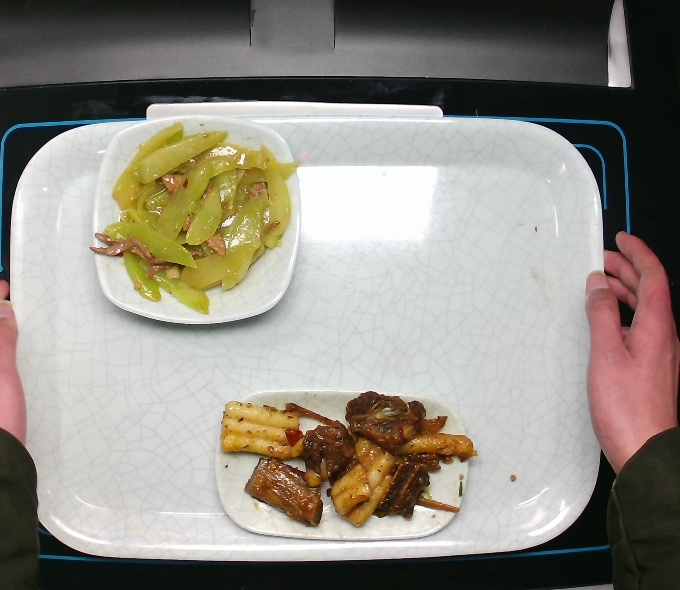wcq-NianGaoZaiPai: (213, 390, 477, 529)
wcq-WoSun: (91, 123, 304, 316)
